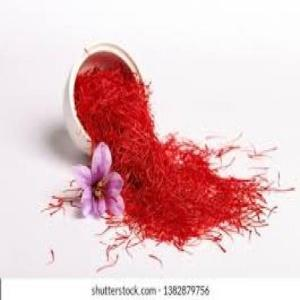Saffron: (72, 144, 126, 218)
